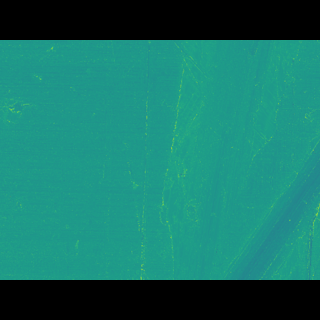Loch: (156, 70, 319, 250), (0, 107, 44, 137)
